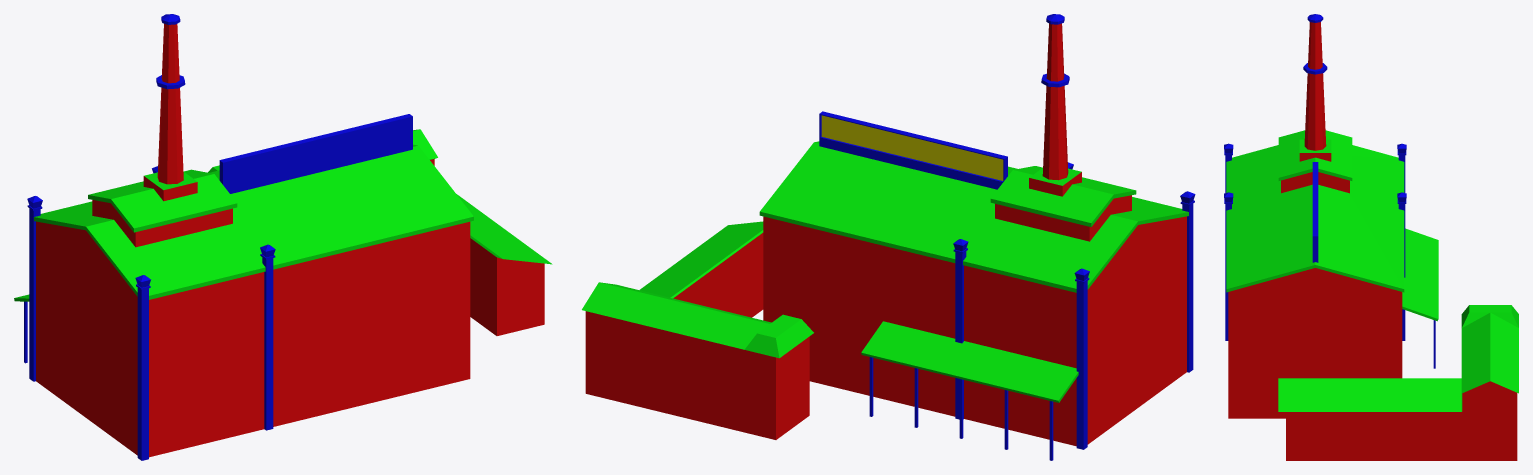
The model's file is Factory.fbx.
The picture shows the model from 3 angles, left to right: view 1: azimuth 30°, elevation 25°; view 2: azimuth 150°, elevation 25°; view 3: azimuth 270°, elevation 25°; orthographic projection. The views are drawn at different scales.
Visible parts, largest first — view 1: mesh_factory; view 2: mesh_factory; view 3: mesh_factory.
Part boxes in pixels (x1,y1,x2,y2): mesh_factory: (14,14,552,460); mesh_factory: (582,14,1195,460); mesh_factory: (1224,14,1518,460).
Size of the model in its own units: 1443 by 1194 by 1032.
